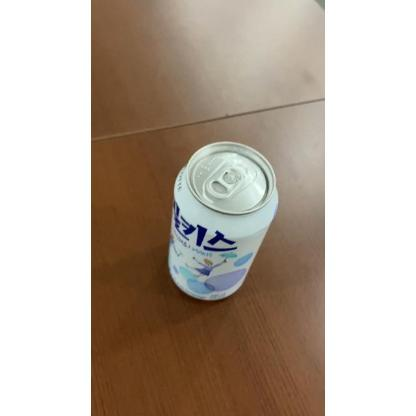Can: (166, 138, 278, 304)
